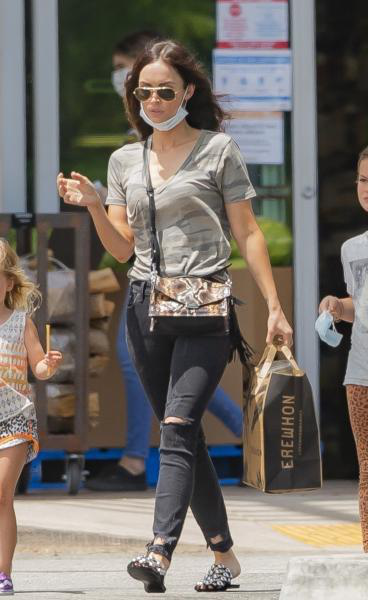mask_weared_incorrect: (130, 65, 197, 136)
